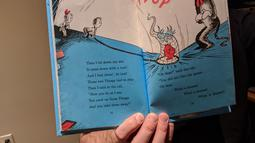text block: (82, 57, 138, 109), (155, 66, 225, 99)
